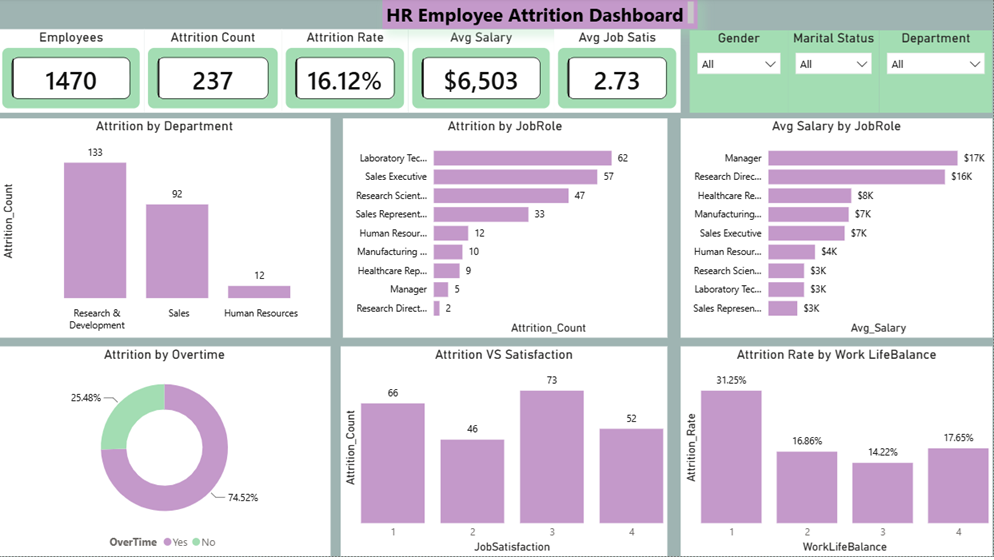

Layout of this report page (visuals, bound fields, positions):
{"tool":"powerbi","page":{"name":"Executive_Summary","canvas":[1280,720],"ordinal":4},"visuals":[{"type":"cardVisual","title":"Employees","fields":{"Data":["Employees.Total_Employees"]},"box":[0,40.7,187.6,107.6],"z":0},{"type":"cardVisual","title":"Attrition Count","fields":{"Data":["Employees.Employees_Left"]},"box":[187.6,40.7,177.4,107.6],"z":1000},{"type":"cardVisual","title":"Attrition Rate","fields":{"Data":["Employees.Attrition_Rate"]},"box":[365,40.7,162.9,107.6],"z":2000},{"type":"cardVisual","title":"Avg Salary","fields":{"Data":["Employees.Avg_Salary"]},"box":[527.9,40.7,187.6,107.6],"z":3000},{"type":"textbox","box":[494.2,0,405.8,40.6],"z":4000},{"type":"columnChart","title":"Attrition by Department","fields":{"Category":["Employees.Department"],"Y":["Employees.Employees_Left"]},"box":[0,155.1,427.5,282.6],"z":5000},{"type":"clusteredBarChart","title":"Attrition by JobRole","fields":{"Category":["Employees.JobRole"],"Y":["Employees.Employees_Left"]},"box":[443.5,155.1,417.4,282.6],"z":6000},{"type":"donutChart","title":"Attrition by Overtime","fields":{"Category":["Employees.OverTime"],"Y":["Employees.Attrition_Rate"]},"box":[0,449.3,427.5,271],"z":7000},{"type":"columnChart","title":"Attrition VS Satisfaction","fields":{"Category":["Employees.JobSatisfaction"],"Y":["Employees.Employees_Left"]},"box":[440.6,449.3,420.3,271],"z":8000},{"type":"clusteredBarChart","title":"Avg Salary by JobRole","fields":{"Category":["Employees.JobRole"],"Y":["Employees.Avg_Salary"]},"box":[878.3,155.1,401.4,282.6],"z":9000},{"type":"columnChart","title":"Attrition Rate by Work LifeBalance","fields":{"Category":["Employees.WorkLifeBalance"],"Y":["Employees.Attrition_Rate"]},"box":[878.3,449.3,401.4,271],"z":10000},{"type":"slicer","title":"Department","fields":{"Values":["Employees.Department"]},"box":[1134.2,42.2,145.4,106.2],"z":11000},{"type":"slicer","title":"Gender","fields":{"Values":["Employees.Gender"]},"box":[889.9,42.2,126.5,106.2],"z":12000},{"type":"slicer","title":"Marital Status","fields":{"Values":["Employees.MaritalStatus"]},"box":[1016.4,42.2,117.8,106.2],"z":13000},{"type":"cardVisual","title":"Avg Job Satis","fields":{"Data":["Employees.Avg_Job_Satisfaction"]},"box":[715.4,40.7,162.9,107.6],"z":14000}]}

Visuals, with their boxes in screenshot pixels (x1, y1, x2, y2), scaled from the page's 1280x720 canvas onto the 994x560 screenshot:
"Employees" cardVisual: rect(0, 32, 146, 115)
"Attrition Count" cardVisual: rect(146, 32, 283, 115)
"Attrition Rate" cardVisual: rect(283, 32, 410, 115)
"Avg Salary" cardVisual: rect(410, 32, 556, 115)
textbox: rect(384, 0, 699, 32)
"Attrition by Department" columnChart: rect(0, 121, 332, 340)
"Attrition by JobRole" clusteredBarChart: rect(344, 121, 669, 340)
"Attrition by Overtime" donutChart: rect(0, 349, 332, 559)
"Attrition VS Satisfaction" columnChart: rect(342, 349, 669, 559)
"Avg Salary by JobRole" clusteredBarChart: rect(682, 121, 993, 340)
"Attrition Rate by Work LifeBalance" columnChart: rect(682, 349, 993, 559)
"Department" slicer: rect(881, 33, 993, 115)
"Gender" slicer: rect(691, 33, 789, 115)
"Marital Status" slicer: rect(789, 33, 881, 115)
"Avg Job Satis" cardVisual: rect(556, 32, 682, 115)
